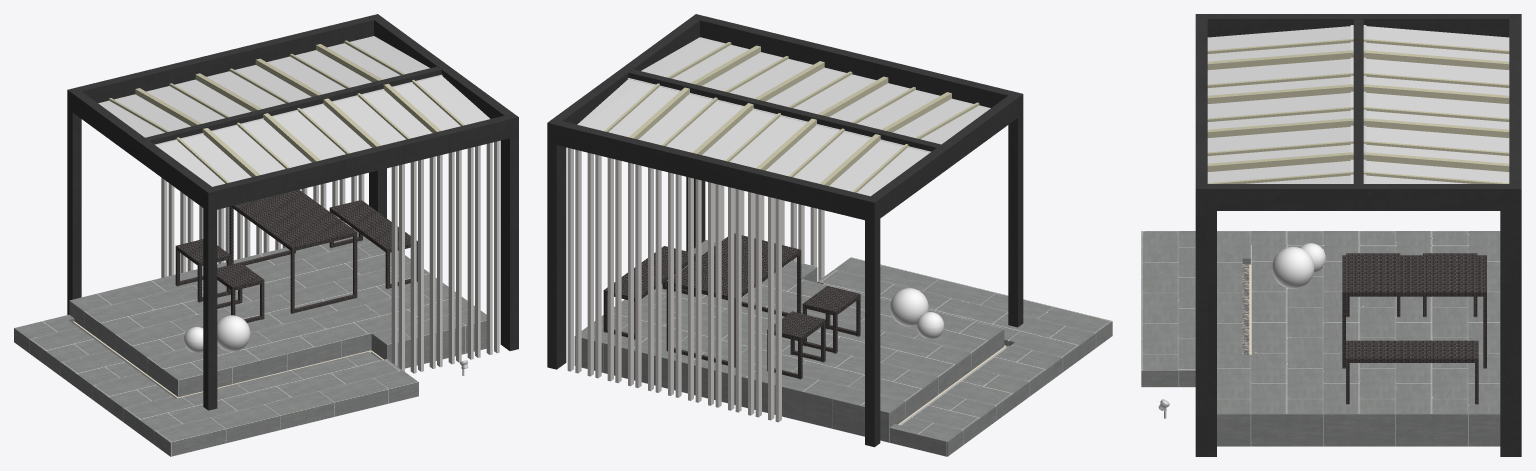
The model's file is hyg26-g_matblack.fbx.
The picture shows the model from 3 angles, left to right: view 1: azimuth 30°, elevation 25°; view 2: azimuth 150°, elevation 25°; view 3: azimuth 270°, elevation 25°; orthographic projection. The views are drawn at different scales.
Parts seen in each view (by area): view 1: hyg26-g_matblack; view 2: hyg26-g_matblack; view 3: hyg26-g_matblack.
Part boxes in pixels (<box>): hyg26-g_matblack: <box>14,14,518,456</box>; hyg26-g_matblack: <box>547,14,1112,456</box>; hyg26-g_matblack: <box>1141,14,1521,456</box>.
Size of the model in its own units: 411 by 245 by 315.
Materials: 17 (9 with a texture image).
